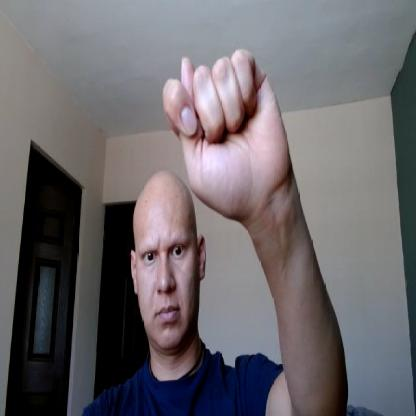T: (161, 47, 292, 221)
